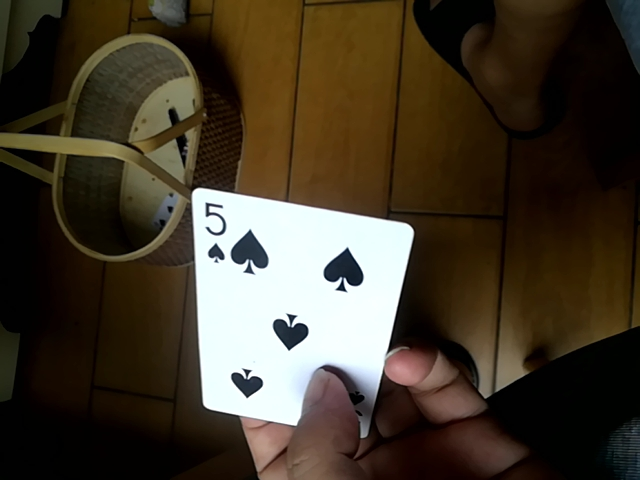ht 5: (187, 187, 415, 434)
